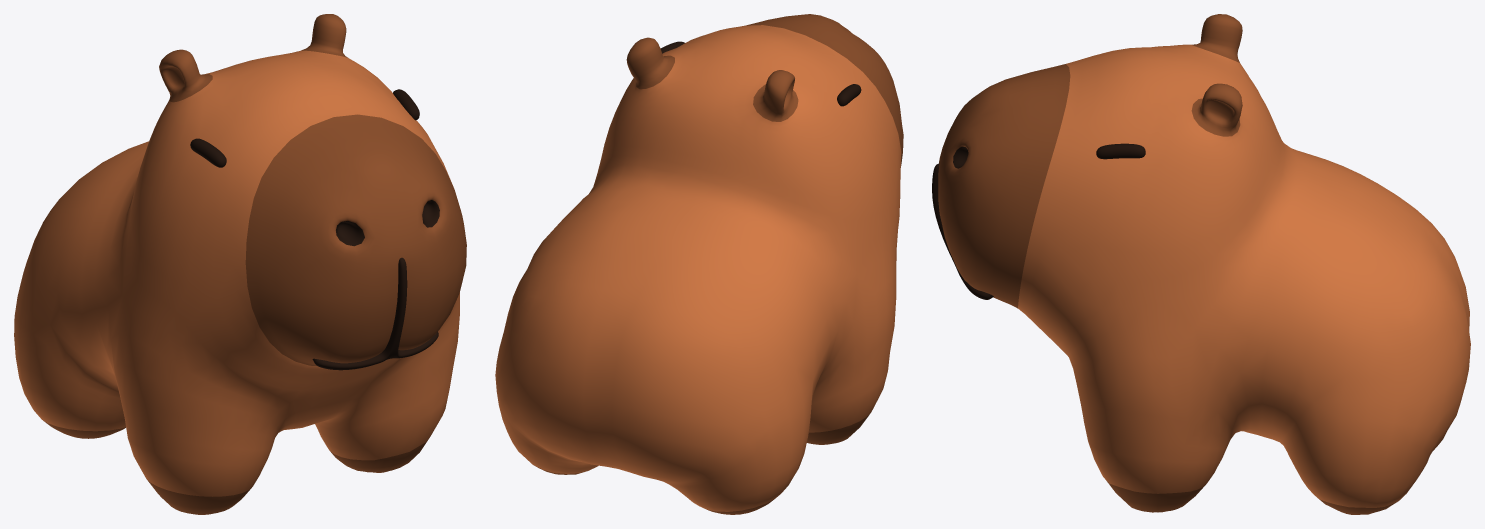
The model's file is capybara.glb.
3 views of the same model, side by side, from view 1: azimuth 30°, elevation 25°; view 2: azimuth 150°, elevation 25°; view 3: azimuth 270°, elevation 25° (orthographic). The views are drawn at different scales.
Parts seen in each view (by area): view 1: Capibara; view 2: Capibara; view 3: Capibara.
Boxes of the visible parts, x1,y1,x2,y2 form: Capibara: (14,14,466,514); Capibara: (495,14,903,514); Capibara: (932,14,1470,514).
Size of the model in its own units: 1.75 by 2.21 by 2.6.
Materials: 1 (1 with a texture image).
